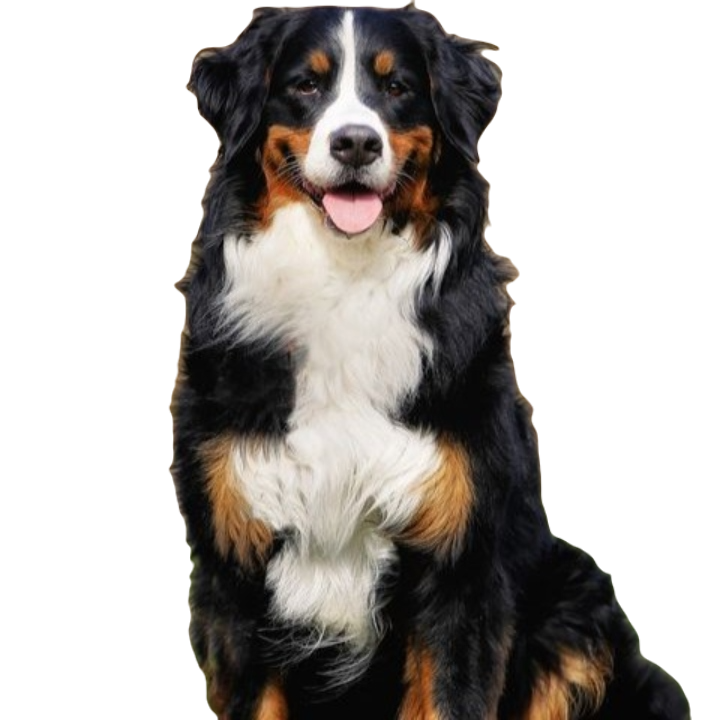Dog: (168, 0, 689, 719)
